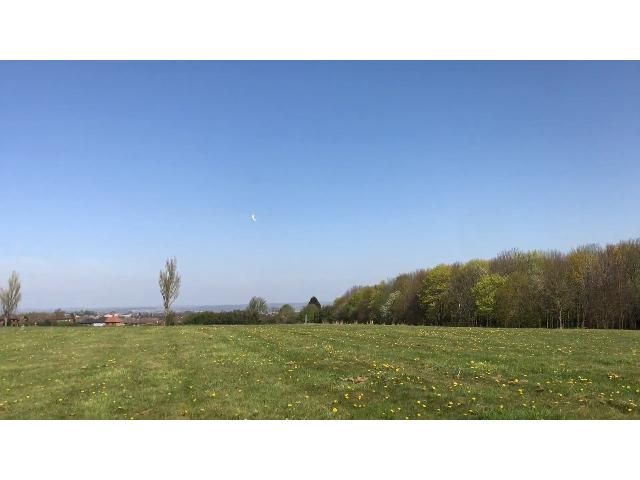Anti-Drone: (248, 214, 260, 222)
